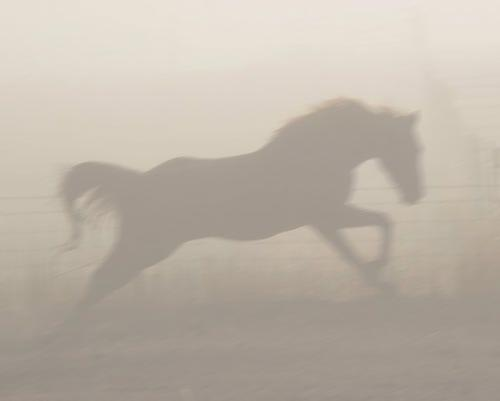horse: (51, 94, 425, 330)
